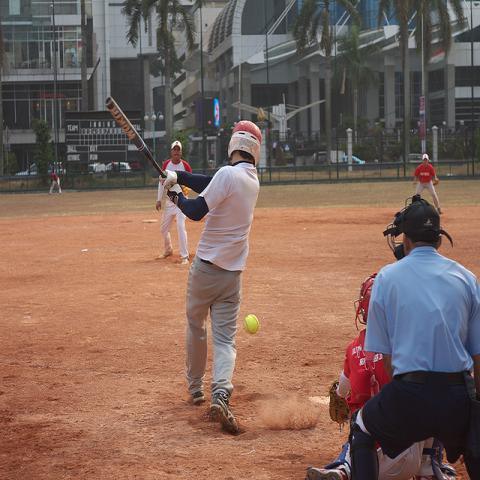car: (14, 161, 63, 176), (106, 163, 132, 173), (343, 155, 366, 164), (409, 154, 423, 162), (318, 153, 327, 164)
